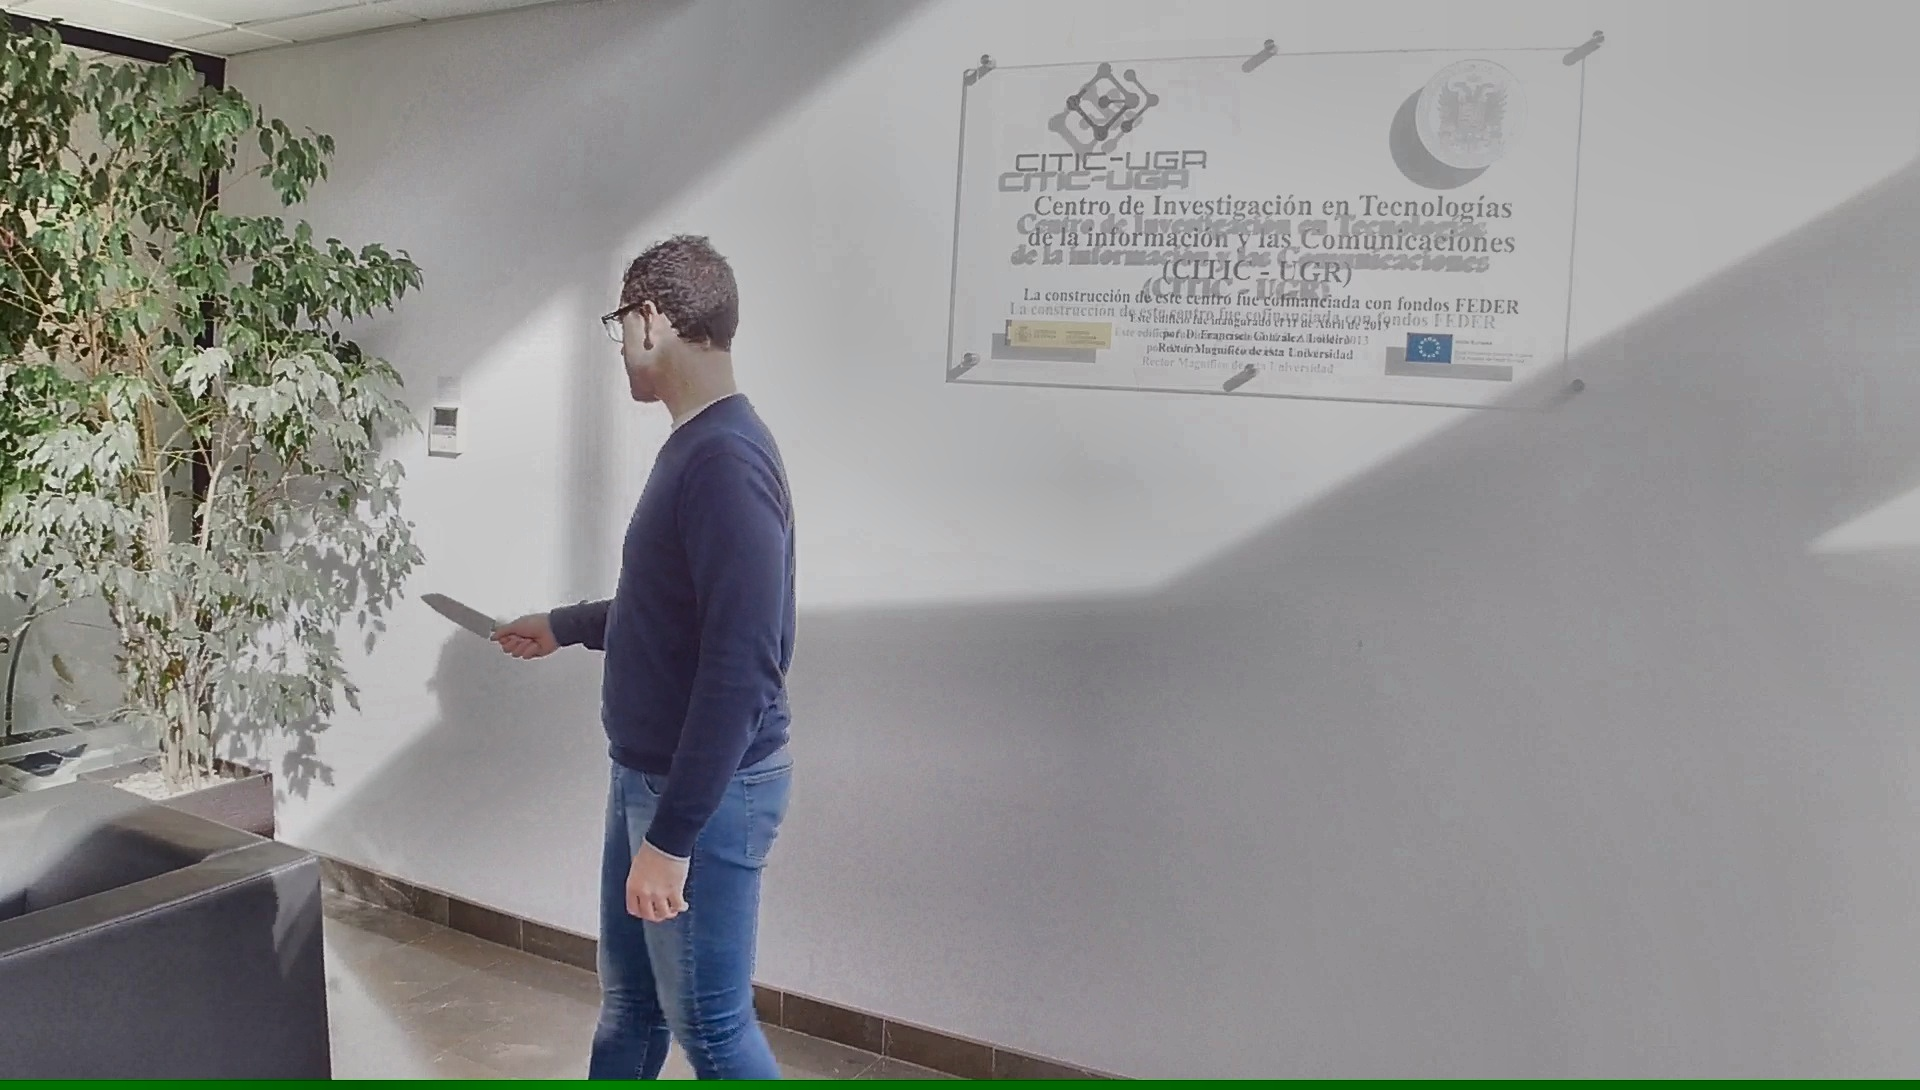knife: (415, 584, 545, 658)
